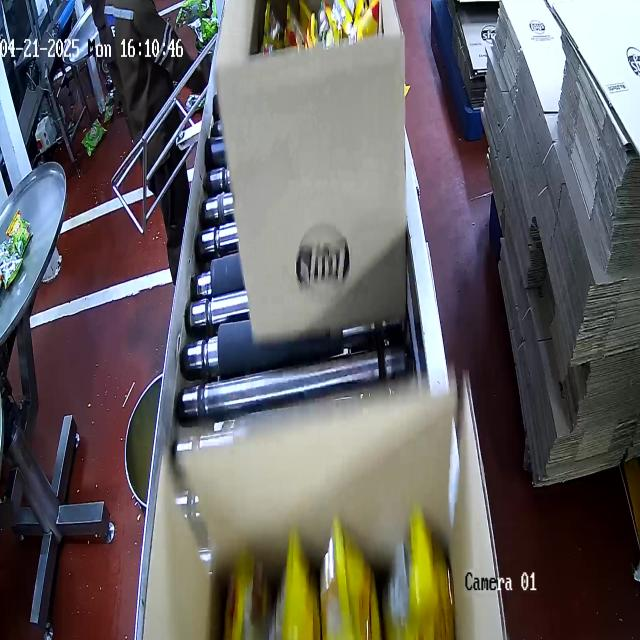SALTED: (223, 522, 476, 640), (262, 0, 381, 45)
